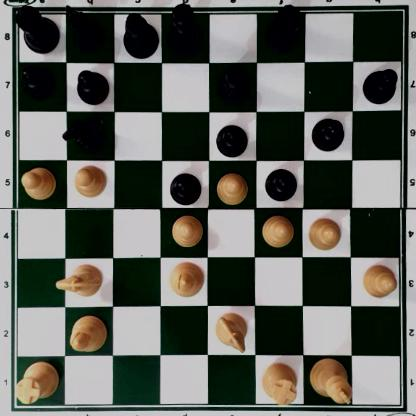black-bishop: (123, 11, 159, 59), (218, 64, 251, 106)
black-king: (167, 3, 205, 56)
black-knight: (68, 3, 105, 54), (62, 115, 106, 151)
black-pawn: (362, 67, 398, 105), (21, 64, 56, 99), (215, 123, 249, 157), (311, 116, 344, 151), (76, 67, 107, 104), (265, 166, 297, 201), (169, 171, 202, 204)
black-rook: (14, 1, 59, 53), (264, 4, 303, 53)
white-bishop: (69, 314, 108, 356), (168, 260, 205, 297)
white-king: (309, 356, 352, 405)
white-knight: (55, 263, 102, 299), (213, 311, 249, 352)
white-pawn: (360, 263, 397, 299), (307, 215, 341, 251), (21, 166, 57, 199), (73, 164, 107, 198), (213, 171, 249, 203), (261, 214, 294, 248), (171, 212, 203, 246)
white-rook: (14, 360, 59, 403), (261, 363, 298, 404)
